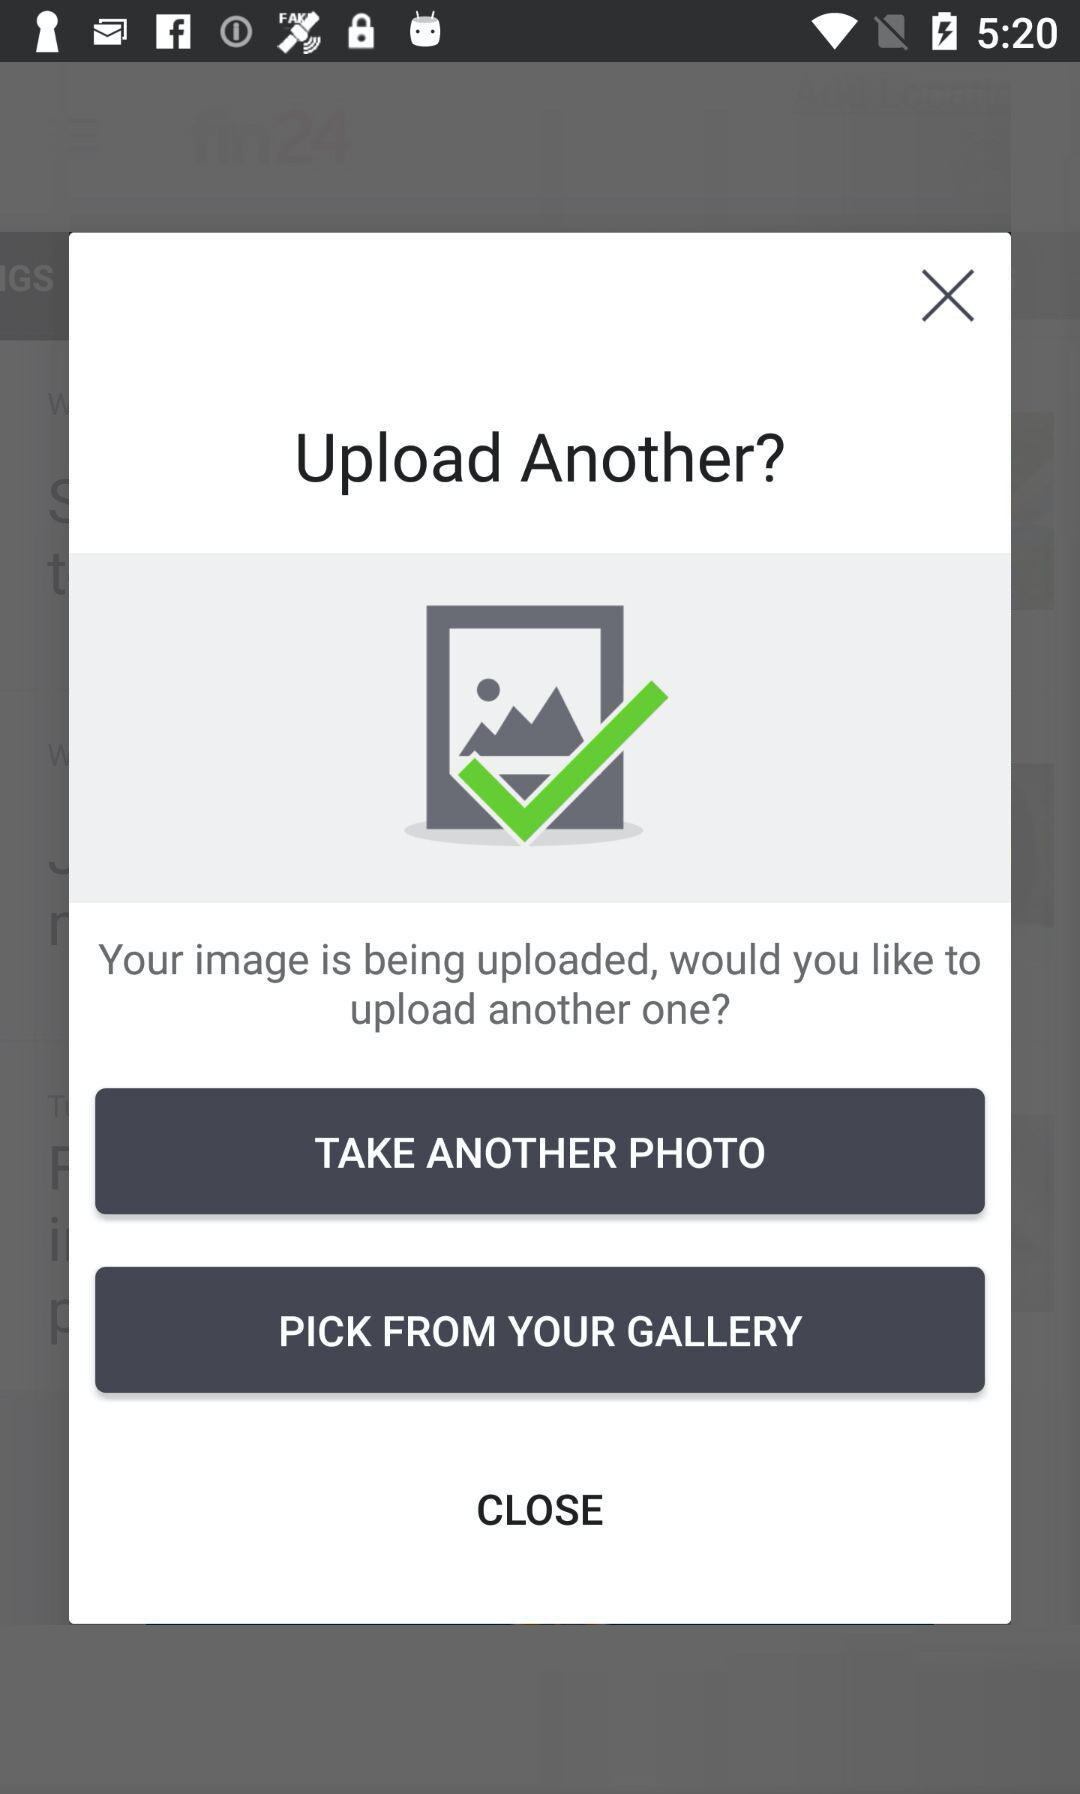Icon: (919, 269, 976, 323)
Image: (405, 604, 667, 848)
Modal: (69, 232, 1012, 1625)
Text: (97, 943, 980, 1033), (299, 431, 784, 496), (477, 1493, 603, 1527)
TextButton: (96, 1266, 986, 1394), (95, 1088, 985, 1215)
UpperTaskBar: (1, 1, 1080, 64)
